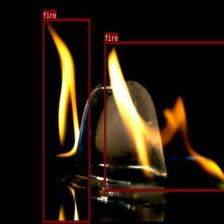fire: (104, 41, 224, 190), (42, 18, 90, 223)
